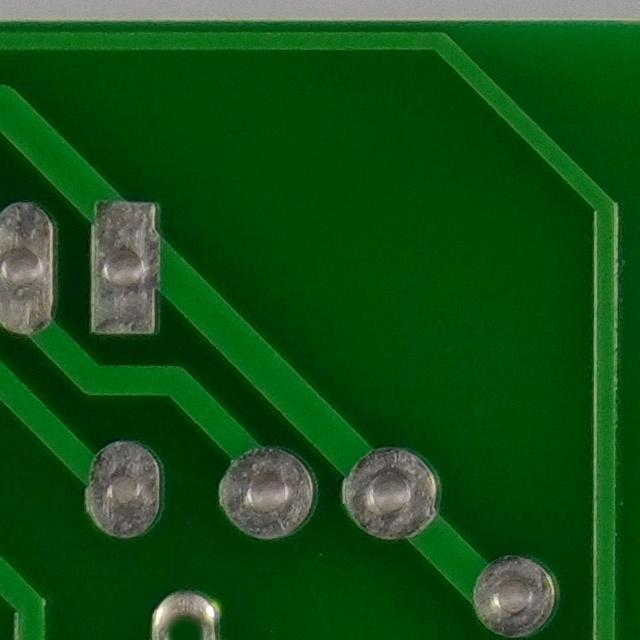missing_hole: (147, 596, 226, 640)
